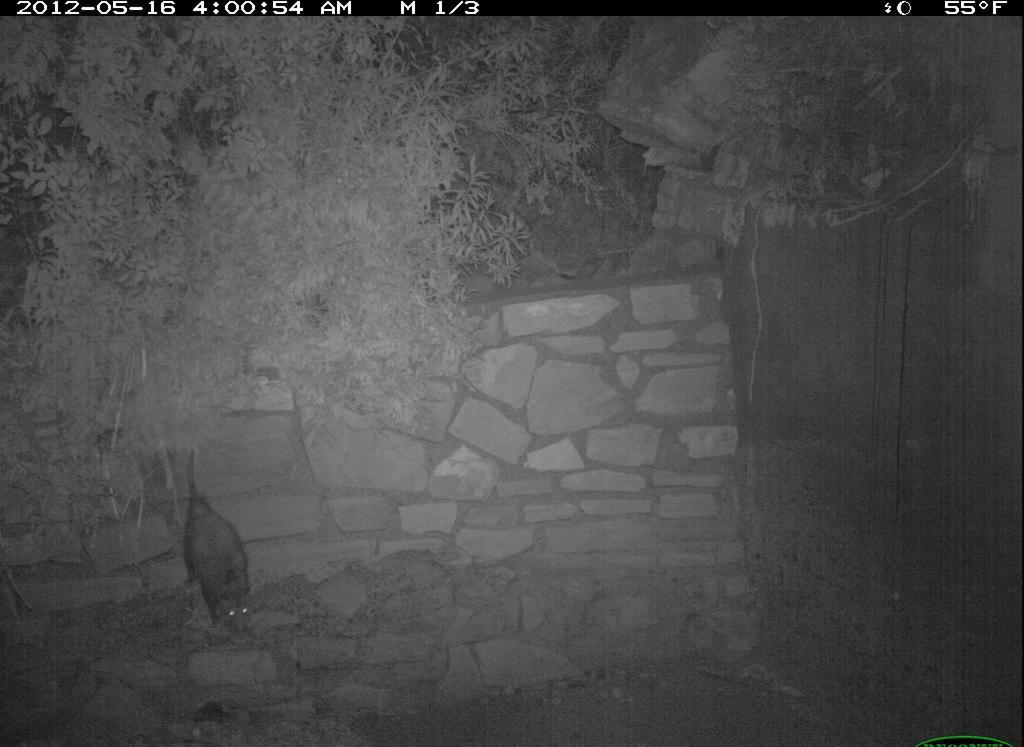opossum: (171, 440, 277, 644)
